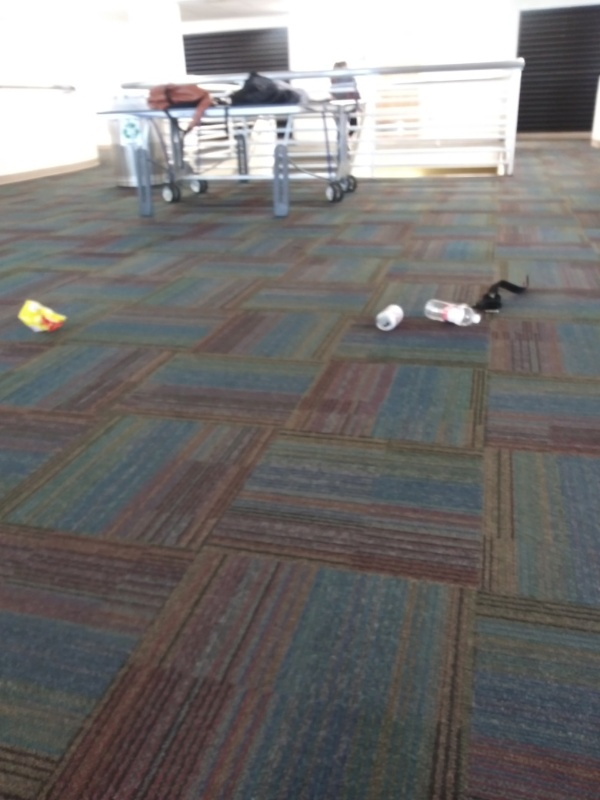bag: (11, 292, 75, 338)
bottle: (421, 296, 487, 328)
can: (372, 301, 408, 335)
